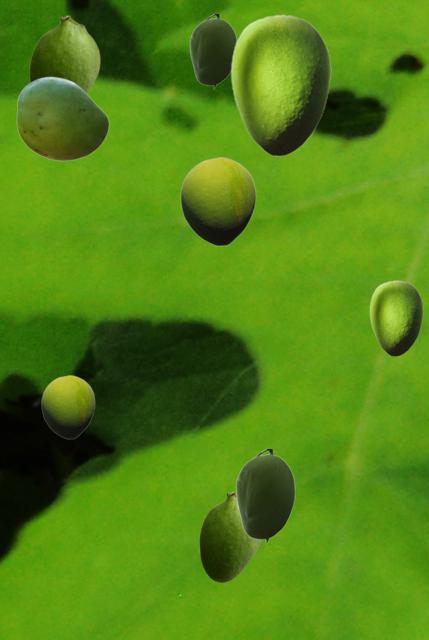green_mango: (230, 14, 330, 155), (16, 76, 108, 160), (180, 157, 255, 245), (199, 491, 261, 581), (235, 449, 294, 543), (29, 15, 99, 92), (369, 280, 422, 355), (189, 14, 236, 88), (41, 375, 94, 438)
